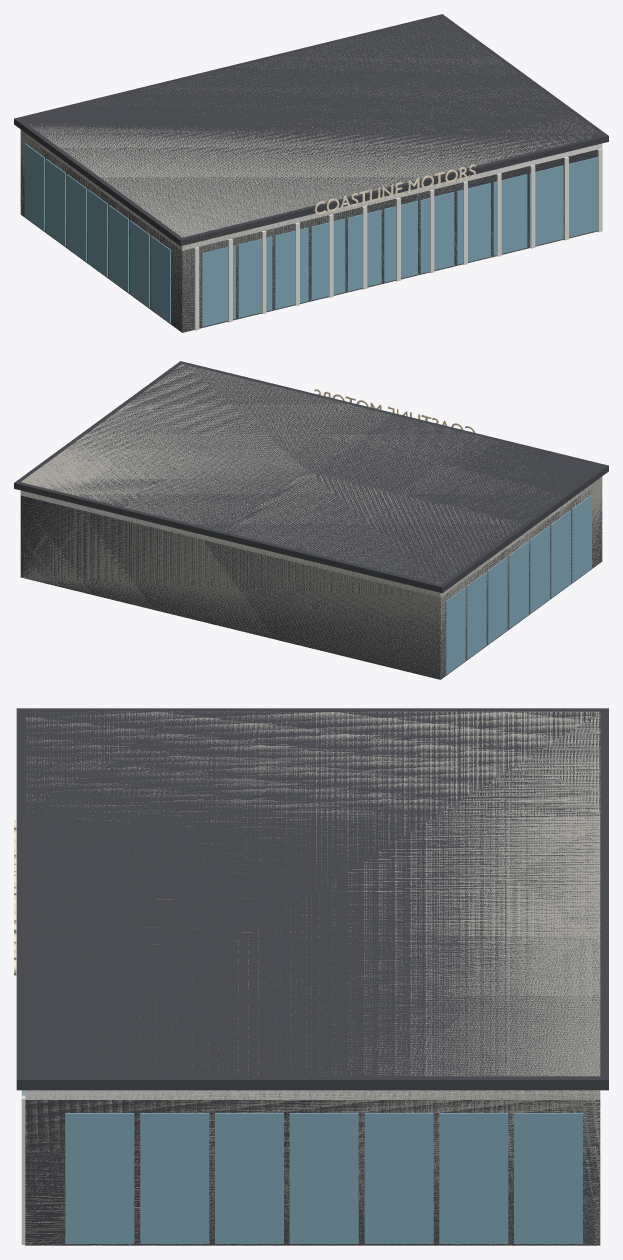
The model's file is BLD_Showroom.fbx.
The picture shows the model from 3 angles, top to bottom: view 1: azimuth 30°, elevation 25°; view 2: azimuth 150°, elevation 25°; view 3: azimuth 270°, elevation 25°; orthographic projection. The views are drawn at different scales.
Parts seen in each view (by area): view 1: BLD_Showroom__BODY, BLD_Showroom__COL_Main, BLD_Showroom__SIGN; view 2: BLD_Showroom__BODY, BLD_Showroom__COL_Main, BLD_Showroom__SIGN; view 3: BLD_Showroom__BODY, BLD_Showroom__COL_Main.
Part boxes in pixels (bbox=[...]): BLD_Showroom__BODY: bbox=[14, 14, 608, 332]; BLD_Showroom__COL_Main: bbox=[20, 20, 596, 332]; BLD_Showroom__SIGN: bbox=[314, 164, 475, 214]; BLD_Showroom__BODY: bbox=[14, 361, 608, 679]; BLD_Showroom__COL_Main: bbox=[20, 364, 602, 678]; BLD_Showroom__SIGN: bbox=[314, 389, 475, 432]; BLD_Showroom__BODY: bbox=[16, 708, 608, 1245]; BLD_Showroom__COL_Main: bbox=[25, 711, 600, 1245].
Size of the model in its own units: 30.6 by 6.82 by 20.69.
